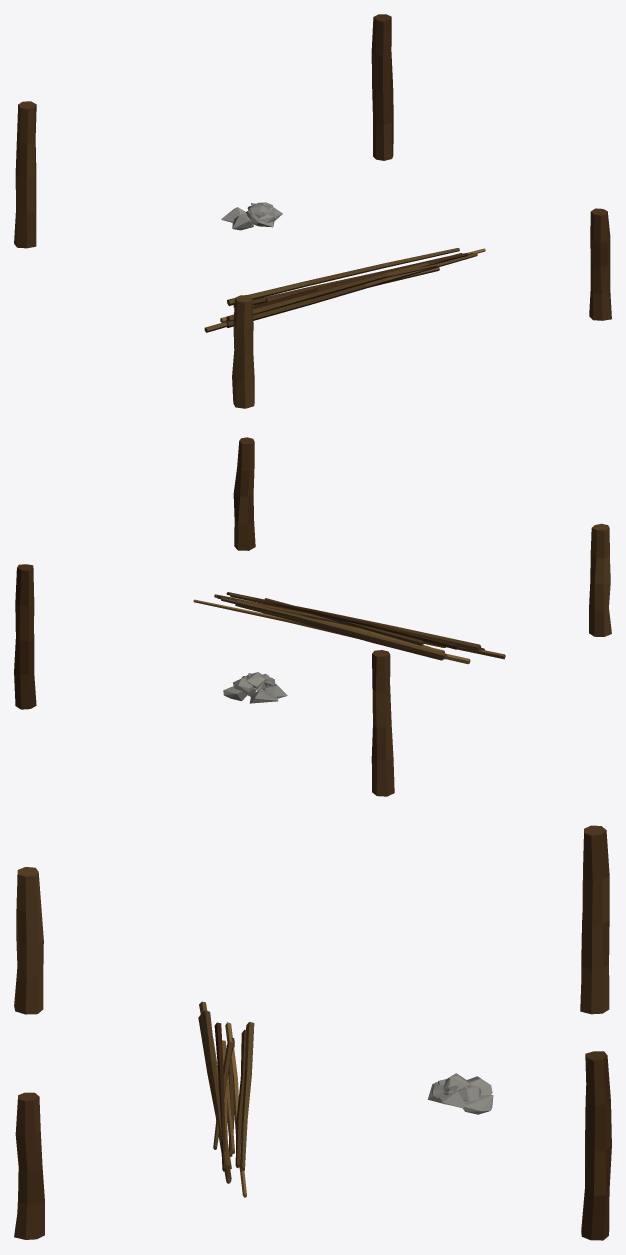
Rendered from smokehouse_1_cantiere.glb.
The picture shows the model from 3 angles, top to bottom: view 1: azimuth 30°, elevation 25°; view 2: azimuth 150°, elevation 25°; view 3: azimuth 270°, elevation 25°; orthographic projection. The views are drawn at different scales.
Parts seen in each view (by area): view 1: smokehouse_1_cantiere; view 2: smokehouse_1_cantiere; view 3: smokehouse_1_cantiere.
Part boxes in pixels (<box>): smokehouse_1_cantiere: <box>14,14,611,408</box>; smokehouse_1_cantiere: <box>14,437,611,796</box>; smokehouse_1_cantiere: <box>14,825,611,1240</box>.
Size of the model in its own units: 7.2 by 2.54 by 7.61.
